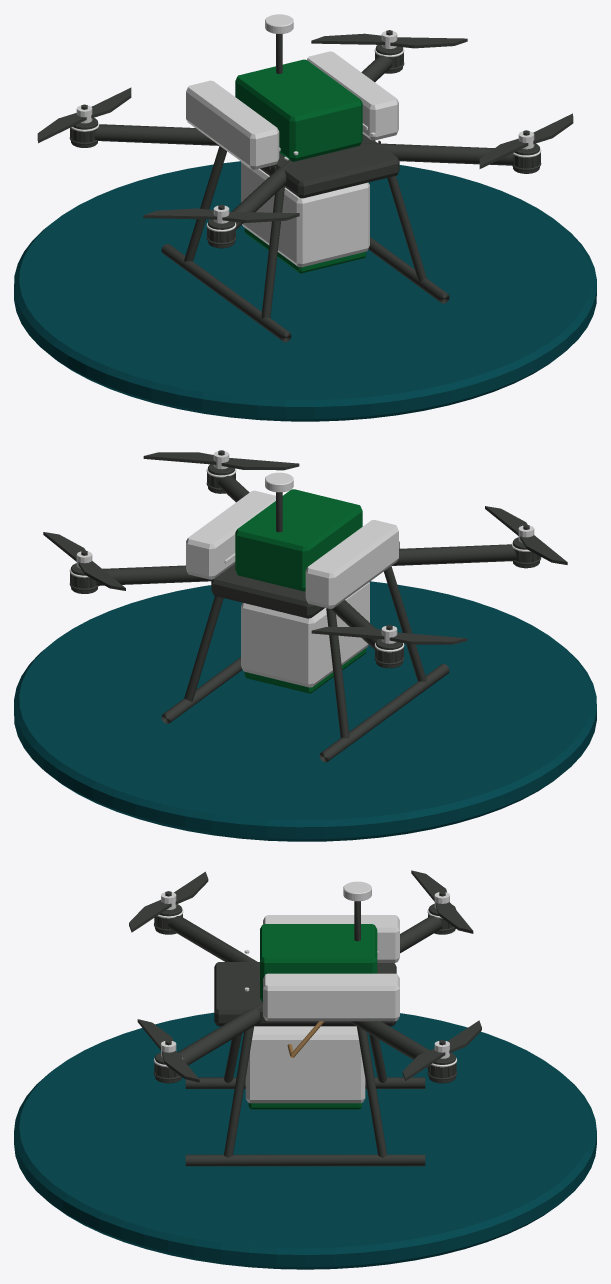
Rendered from ornl-strelka.glb.
3 views of the same model, one above another, from view 1: azimuth 30°, elevation 25°; view 2: azimuth 150°, elevation 25°; view 3: azimuth 270°, elevation 25° (orthographic).
Parts seen in each view (by area): view 1: pedestal, body; view 2: pedestal, body; view 3: pedestal, body.
Part boxes in pixels (x1,y1,x2,y2): pedestal: [14, 161, 596, 421]; body: [37, 14, 573, 342]; pedestal: [14, 581, 596, 841]; body: [43, 450, 567, 762]; pedestal: [14, 1012, 596, 1269]; body: [129, 870, 481, 1166].
Size of the model in its own units: 4.4 by 2.18 by 4.4.
